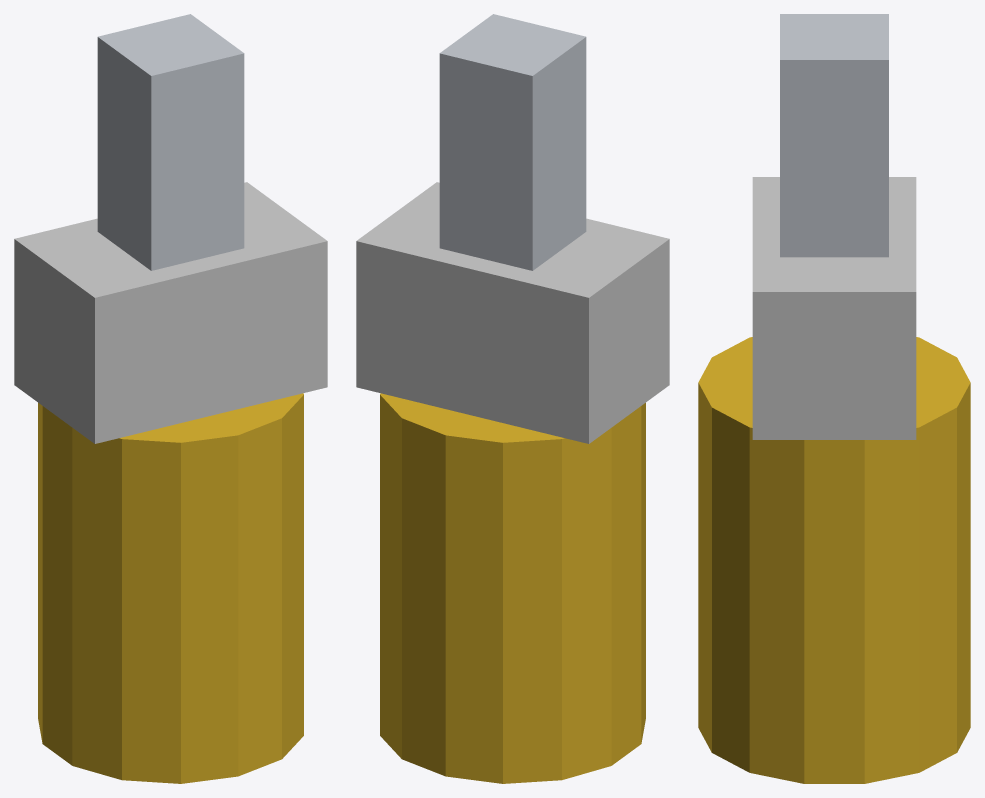
The model's file is delayed_fuse.obj.
The picture shows the model from 3 angles, left to right: view 1: azimuth 30°, elevation 25°; view 2: azimuth 150°, elevation 25°; view 3: azimuth 270°, elevation 25°; orthographic projection.
Visible parts, largest first — view 1: delayed_fuse; view 2: delayed_fuse; view 3: delayed_fuse.
Part boxes in pixels (bbox=[...]): delayed_fuse: bbox=[14, 14, 327, 783]; delayed_fuse: bbox=[356, 14, 669, 783]; delayed_fuse: bbox=[698, 14, 970, 783].
Size of the model in its own units: 0.1 by 0.28 by 0.1.
